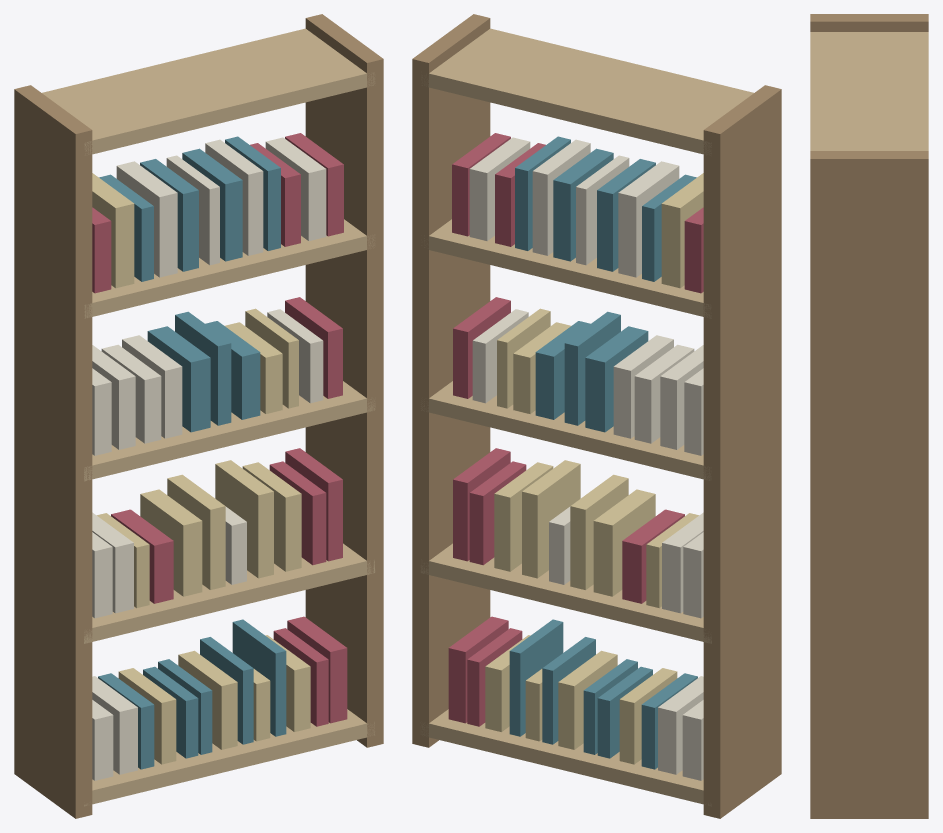
Rendered from mdl_furniture_bookshelf_001.glb.
3 renders of one model, left to right at view 1: azimuth 30°, elevation 25°; view 2: azimuth 150°, elevation 25°; view 3: azimuth 270°, elevation 25°, orthographic. The views are drawn at different scales.
Parts seen in each view (by area): view 1: m_madera, m_madera_clara, m_crema, m_ocre, m_petroleo, m_carmesi; view 2: m_madera, m_madera_clara, m_crema, m_ocre, m_petroleo, m_carmesi; view 3: m_madera, m_madera_clara.
Boxes of the visible parts, x1,y1,x2,y2 form: m_madera: (14, 14, 383, 818); m_madera_clara: (42, 28, 375, 806); m_crema: (92, 137, 326, 780); m_ocre: (92, 173, 310, 764); m_petroleo: (98, 136, 286, 769); m_carmesi: (92, 133, 347, 726); m_madera: (412, 14, 781, 818); m_madera_clara: (420, 28, 753, 806); m_crema: (469, 137, 703, 780); m_ocre: (485, 173, 703, 764); m_petroleo: (509, 136, 697, 769); m_carmesi: (448, 133, 703, 726); m_madera: (810, 14, 928, 818); m_madera_clara: (810, 32, 928, 150).
Size of the model in its own units: 0.9254 by 1.97 by 0.32.
